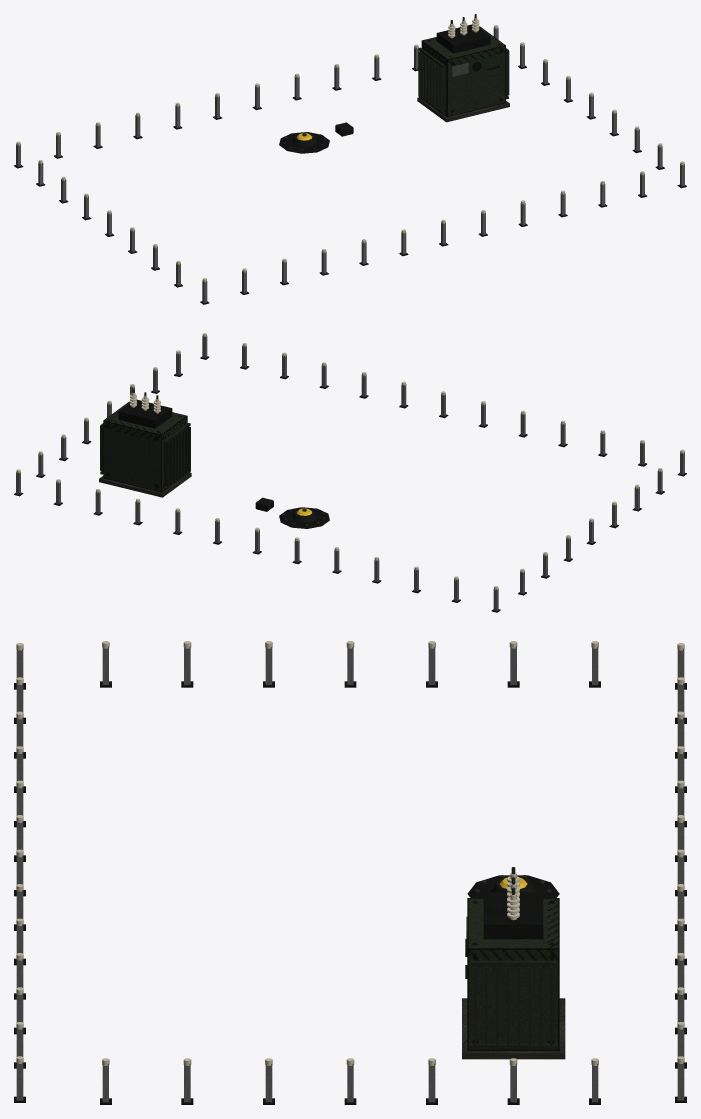
The model's file is cablerun.glb.
The picture shows the model from 3 angles, top to bottom: view 1: azimuth 30°, elevation 25°; view 2: azimuth 150°, elevation 25°; view 3: azimuth 270°, elevation 25°; orthographic projection. The views are drawn at different scales.
Visible parts, largest first — view 1: transformer, fence_posts, hub; view 2: transformer, fence_posts, hub; view 3: transformer, fence_posts, hub.
Boxes of the visible parts, x1,y1,x2,y2 form: transformer: [417, 14, 509, 122]; fence_posts: [14, 25, 686, 304]; hub: [279, 132, 329, 153]; transformer: [99, 389, 191, 497]; fence_posts: [14, 333, 686, 612]; hub: [279, 507, 329, 528]; transformer: [462, 867, 565, 1059]; fence_posts: [14, 641, 686, 1104]; hub: [467, 875, 559, 897].
Bounding box in the file's own units: 18.38 × 3.12 × 12.38.
10 materials, 8 textured.
